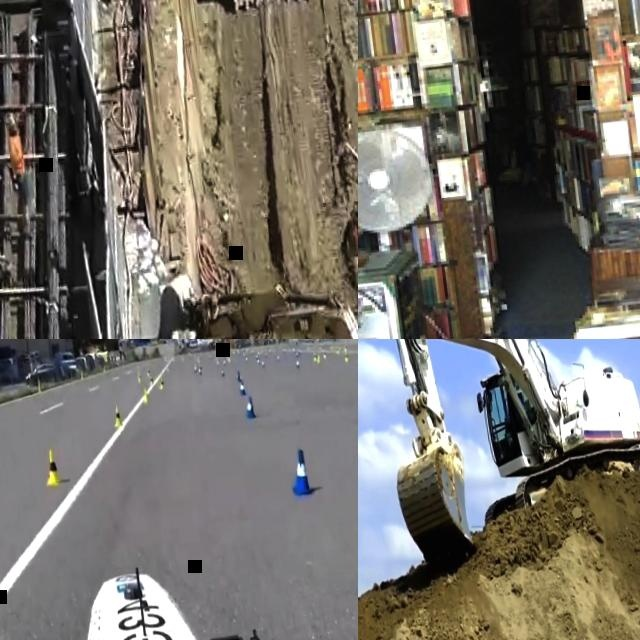Hardhat: (5, 114, 15, 128)
Person: (3, 110, 34, 216), (337, 201, 358, 310), (501, 389, 531, 452)
Safety Cone: (286, 443, 314, 497), (41, 442, 63, 486), (243, 391, 257, 419), (110, 401, 124, 429), (140, 382, 150, 403), (237, 377, 247, 394), (35, 375, 42, 393), (158, 374, 165, 390), (136, 368, 142, 382), (295, 357, 301, 370), (79, 367, 85, 379), (148, 373, 153, 386), (220, 365, 225, 376), (261, 358, 266, 369), (193, 360, 197, 372), (198, 363, 202, 375), (313, 348, 317, 360), (344, 351, 348, 361), (316, 353, 320, 363), (103, 364, 107, 372)
Safety Vest: (8, 130, 25, 171)
machinery: (367, 339, 640, 576), (149, 231, 358, 339)
vehicle: (0, 0, 124, 339), (0, 531, 358, 640)
